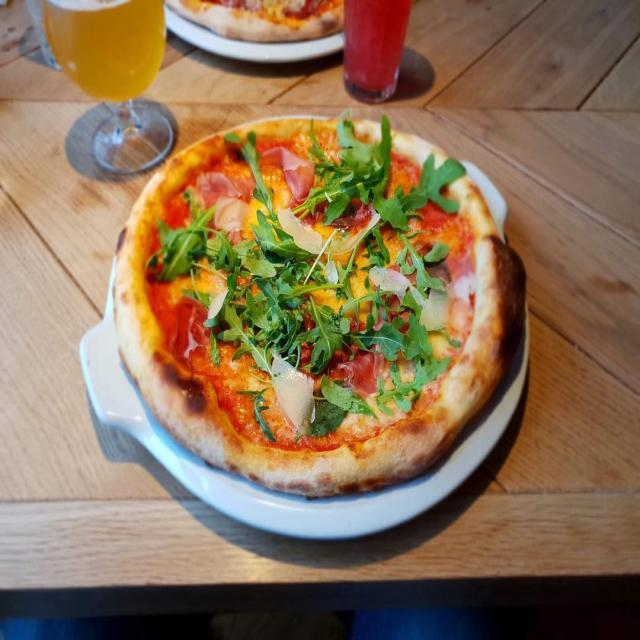pizza: (112, 112, 530, 501), (163, 0, 344, 44)
